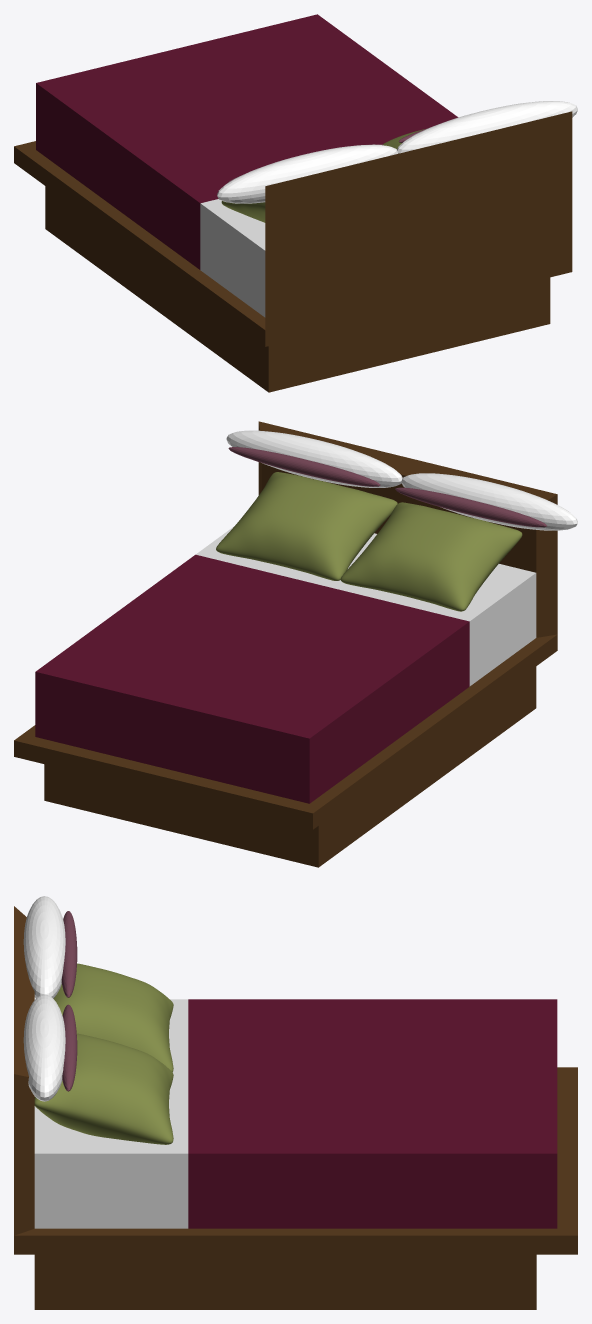
The model's file is Bed Normal.fbx.
3 views of the same model, one above another, from view 1: azimuth 30°, elevation 25°; view 2: azimuth 150°, elevation 25°; view 3: azimuth 270°, elevation 25° (orthographic). The views are drawn at different scales.
Parts seen in each view (by area): view 1: Plane.001; view 2: Plane.001; view 3: Plane.001.
Part boxes in pixels (x1=…): Plane.001: x1=14, y1=14, x2=577, y2=392; Plane.001: x1=14, y1=421, x2=577, y2=867; Plane.001: x1=14, y1=896, x2=577, y2=1309.
Bounding box in the file's own units: 761 × 449 × 918.
